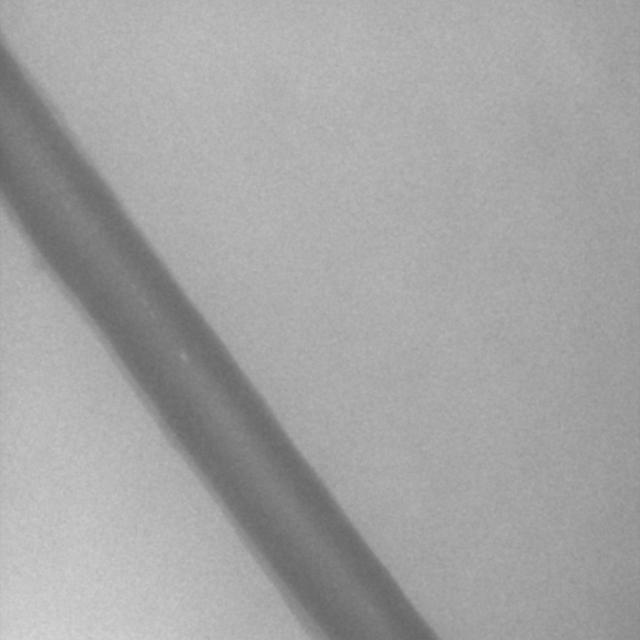air-hole: (179, 343, 188, 367), (367, 606, 376, 624), (139, 293, 147, 309), (150, 312, 155, 326)
